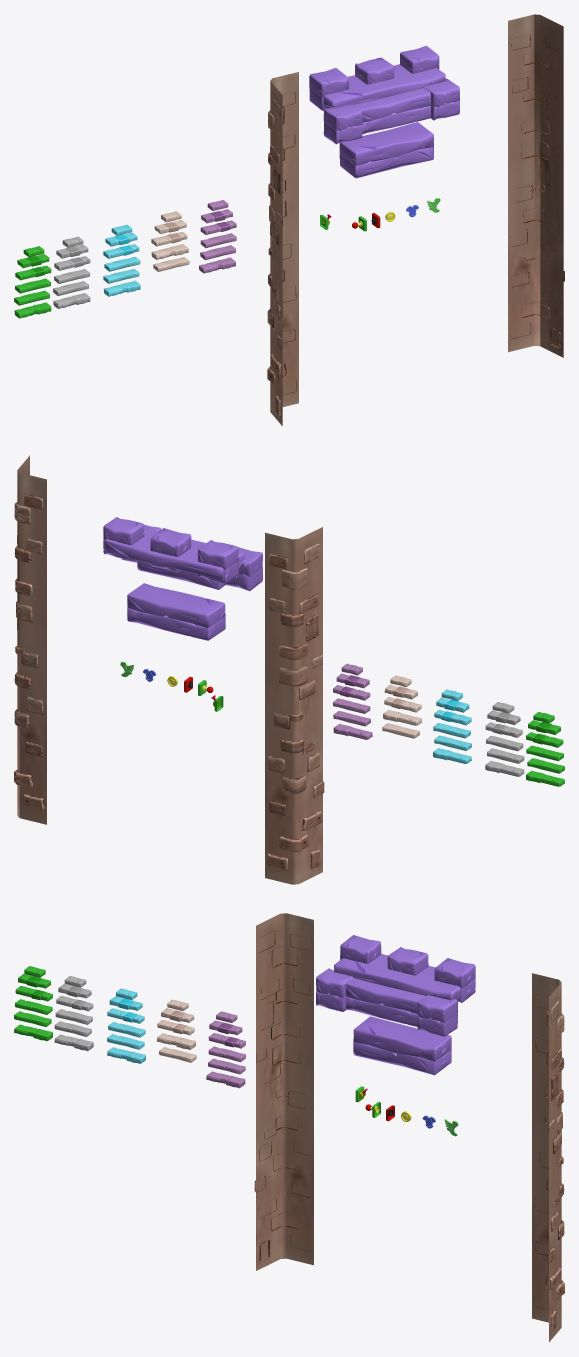
The model's file is Tower_style_assets_V01.fbx.
The picture shows the model from 3 angles, top to bottom: view 1: azimuth 30°, elevation 25°; view 2: azimuth 150°, elevation 25°; view 3: azimuth 330°, elevation 25°; orthographic projection. The views are drawn at different scales.
Visible parts, largest first — view 1: side_wall_right, side_wall_left, Platform_up, Platform_Down; view 2: side_wall_left, side_wall_right, Platform_up, Platform_Down; view 3: side_wall_left, side_wall_right, Platform_up, Platform_Down.
Part boxes in pixels (left/top/right/bottom): side_wall_right: left=508, top=14, right=564, bottom=357; side_wall_left: left=267, top=72, right=298, bottom=425; Platform_up: left=309, top=45, right=459, bottom=144; Platform_Down: left=339, top=122, right=433, bottom=178; side_wall_left: left=265, top=527, right=324, bottom=884; side_wall_right: left=14, top=455, right=46, bottom=824; Platform_up: left=103, top=517, right=262, bottom=591; Platform_Down: left=127, top=583, right=225, bottom=640; side_wall_left: left=254, top=913, right=313, bottom=1270; side_wall_right: left=532, top=973, right=564, bottom=1342; Platform_up: left=316, top=935, right=475, bottom=1036; Platform_Down: left=353, top=1016, right=451, bottom=1075.
Bounding box in the file's own units: 2811 × 1677 × 321.
2 materials, 2 textured.
